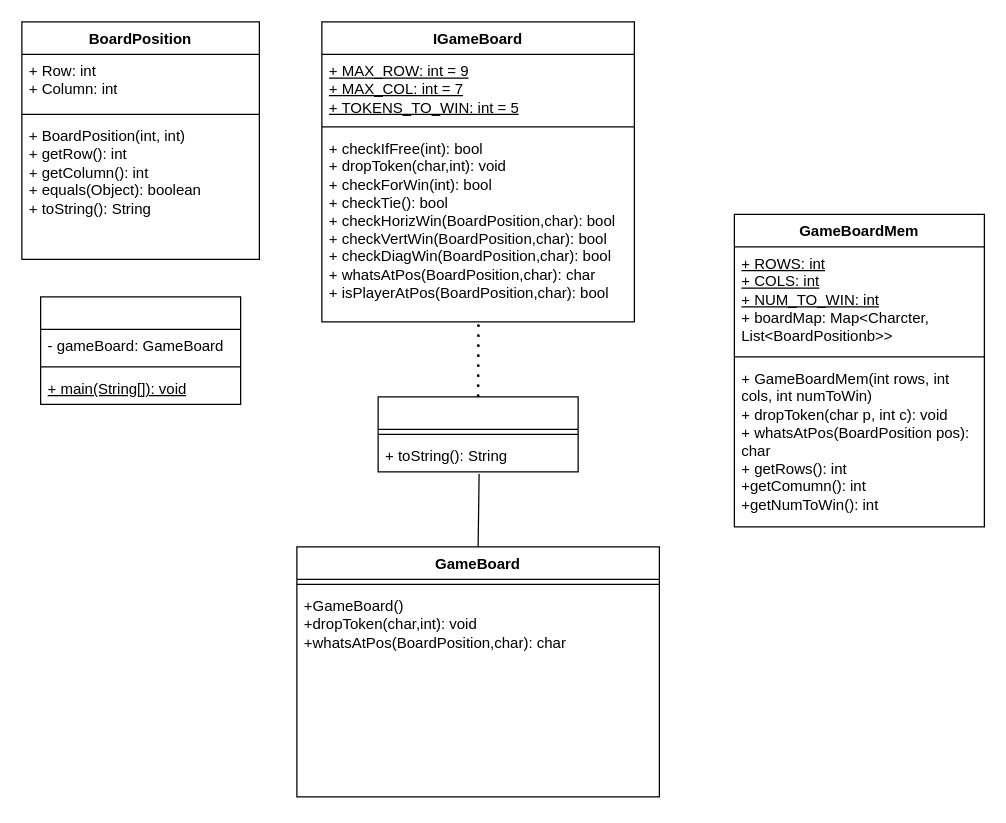
Image size: 1006x823. Some labels were removed from this diagram. The shapes that lost their labels are listed below. From the top down, each one's box as (x1, y1, x2, y2) in pixels, then its label:
(39, 296, 241, 404): GameScreen
(377, 396, 578, 472): AbsGameBoard
